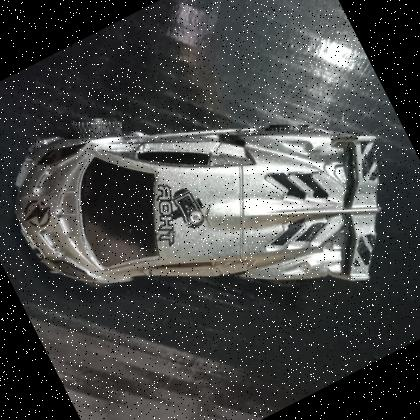Car: (0, 0, 420, 417)
